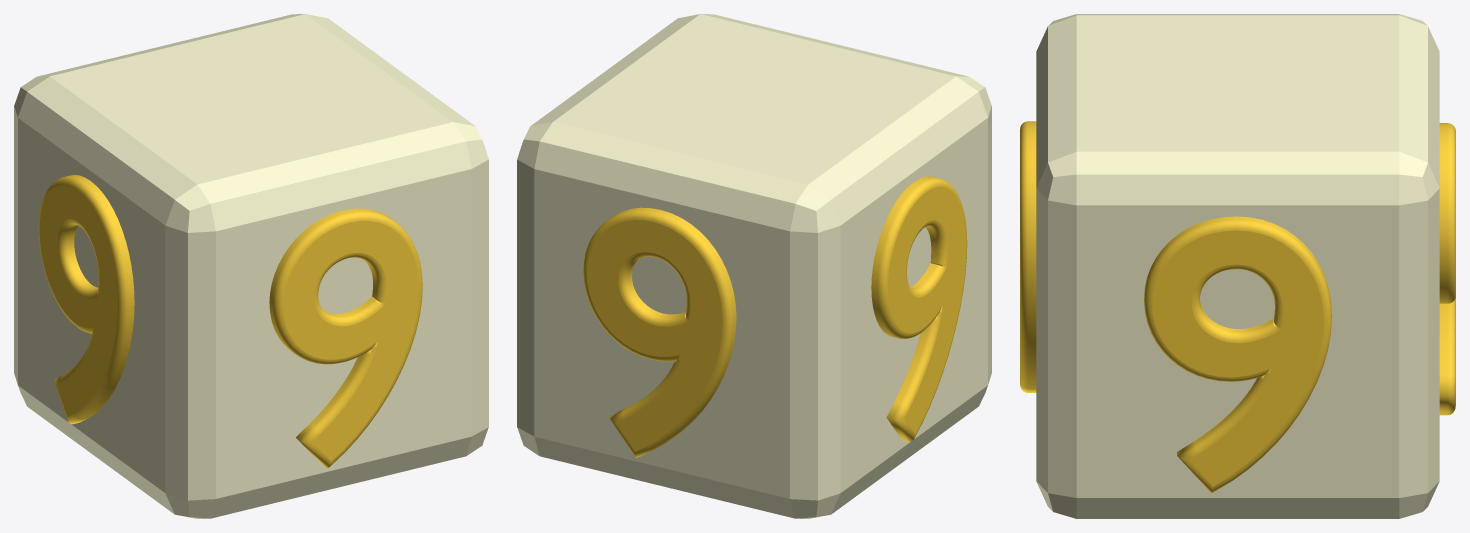
3 renders of one model, left to right at view 1: azimuth 30°, elevation 25°; view 2: azimuth 150°, elevation 25°; view 3: azimuth 270°, elevation 25°, orthographic. The views are drawn at different scales.
Parts seen in each view (by area): view 1: 9; view 2: 9; view 3: 9.
Boxes of the visible parts, box(x1,y1,x2,y2) form: 9: box(14, 14, 488, 518); 9: box(517, 14, 991, 518); 9: box(1020, 14, 1455, 518).
Bounding box in the file's own units: 216 × 200 × 216.
